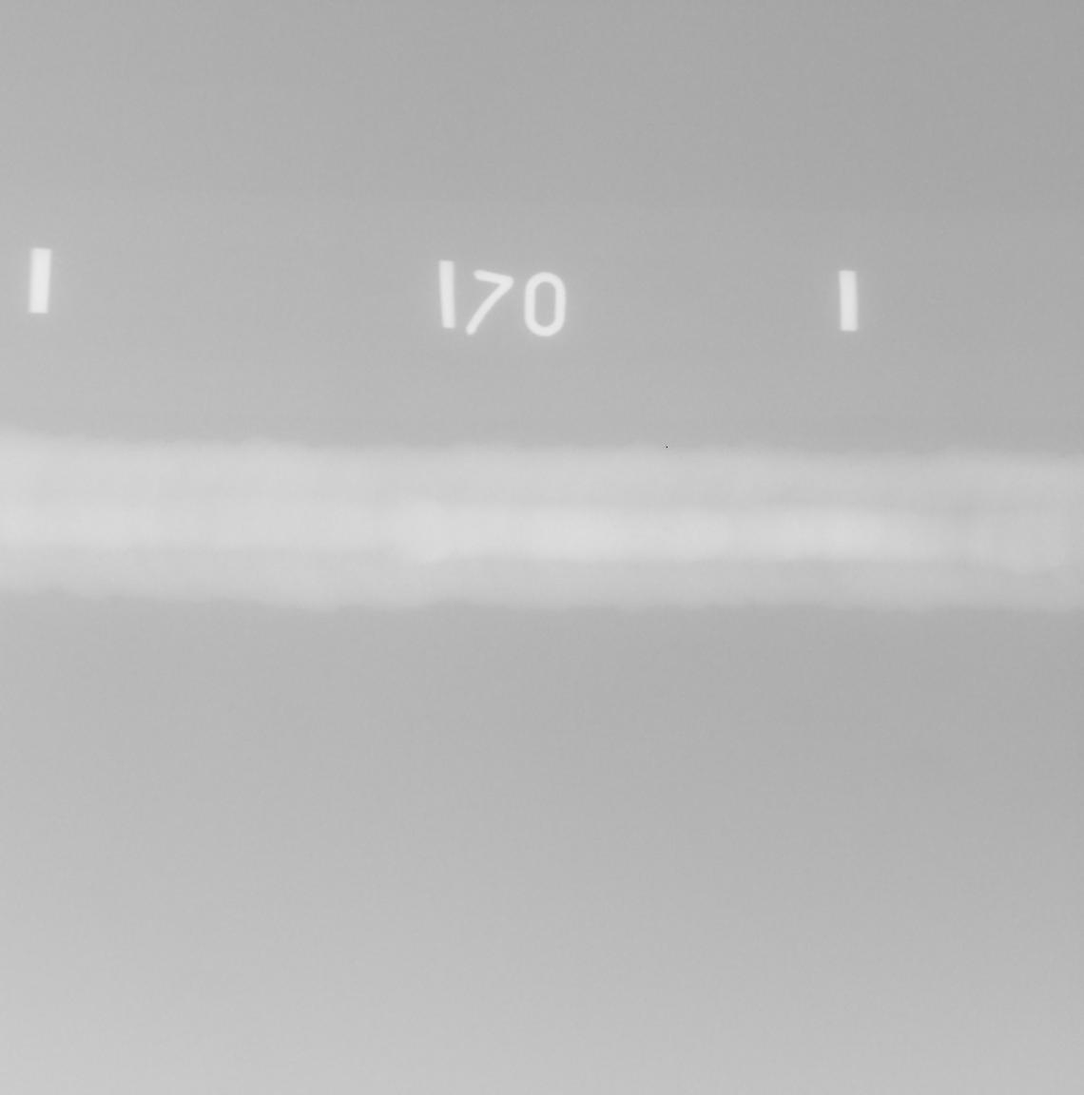Pore/Porosity: (662, 527, 666, 532)
